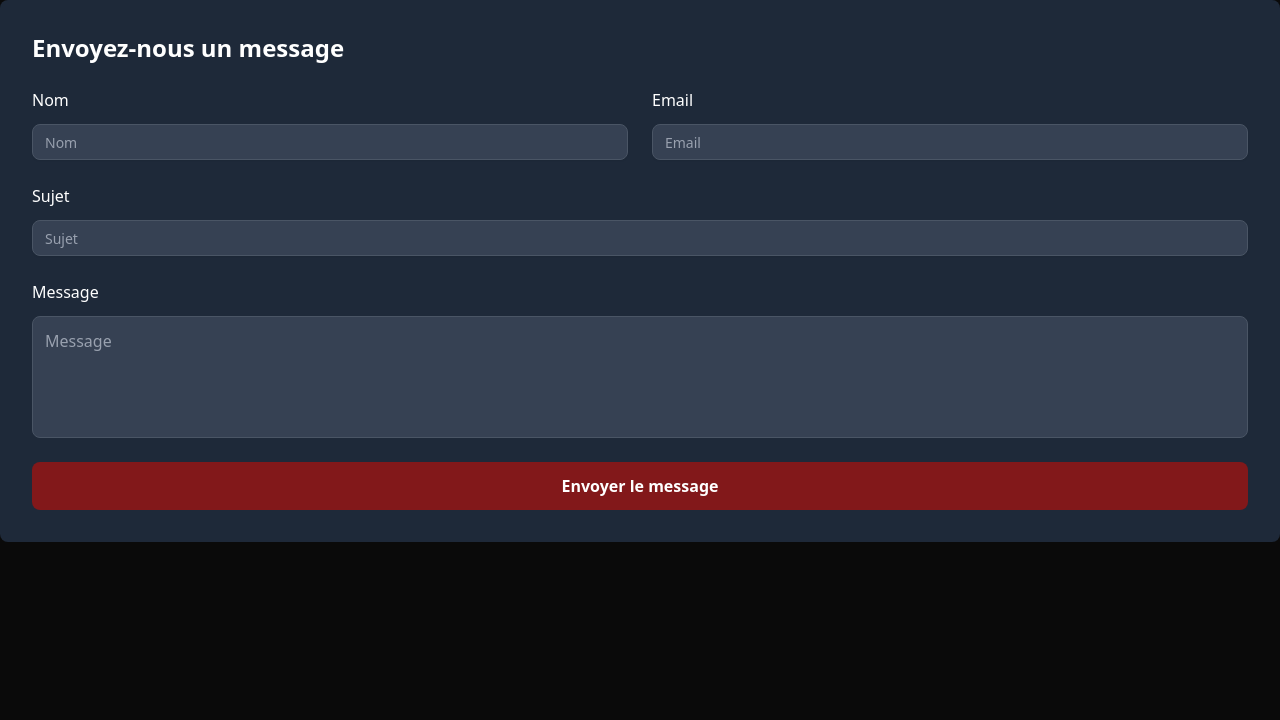
Test: ContactForm › should validate nom regex
Type "N0M123?!" into the field labelled "Nom" at (330, 142), box left=32, top=124, right=628, bottom=160
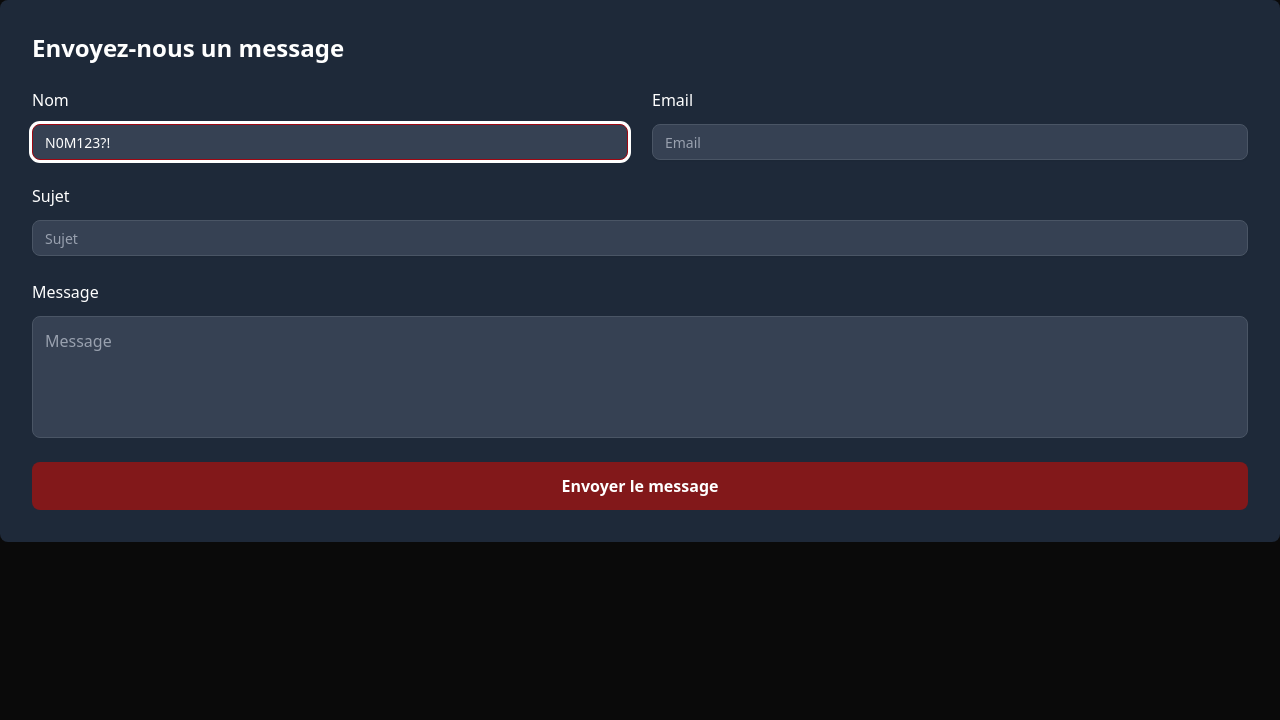
Click the button "Envoyer le message" at (640, 486), box left=32, top=462, right=1248, bottom=510
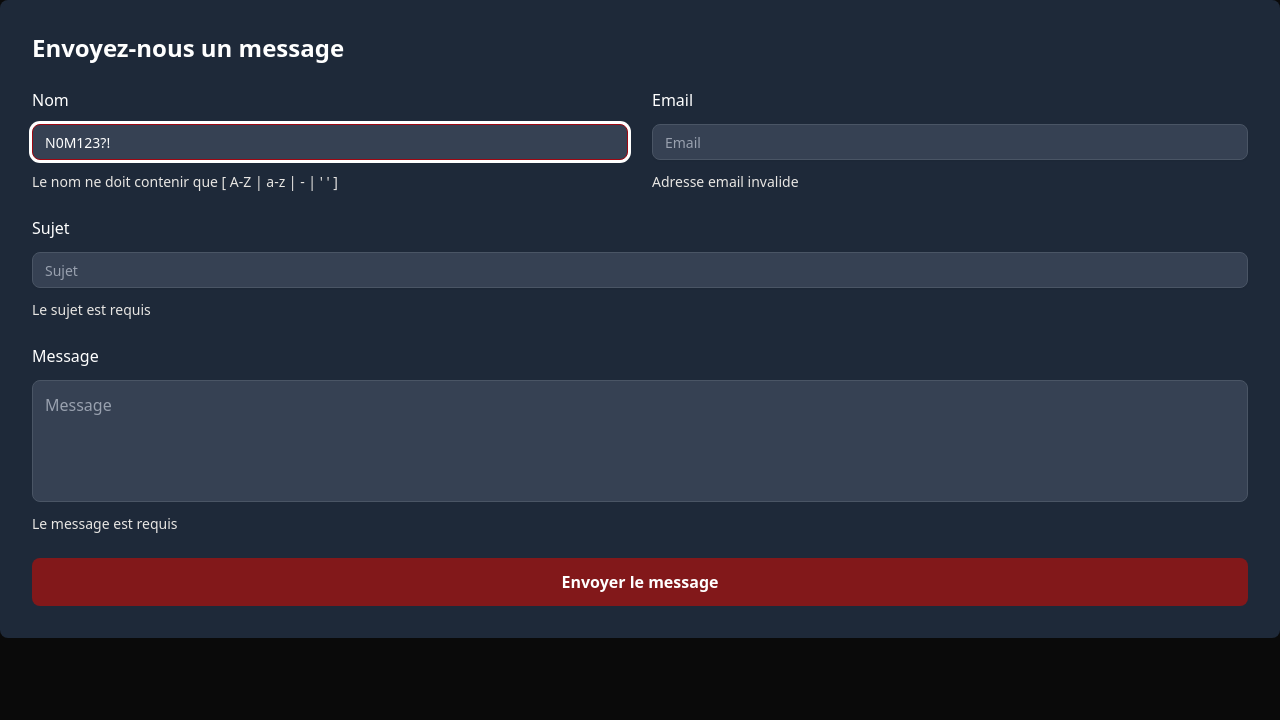
Now the text "Le nom ne doit contenir que [ A-Z | a-z | - | ' ' ]" is shown, box left=32, top=172, right=338, bottom=191
